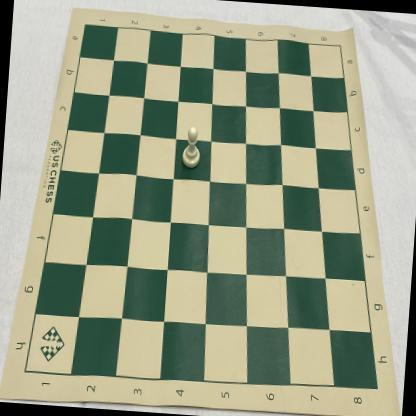pawn: (181, 124, 203, 170)
